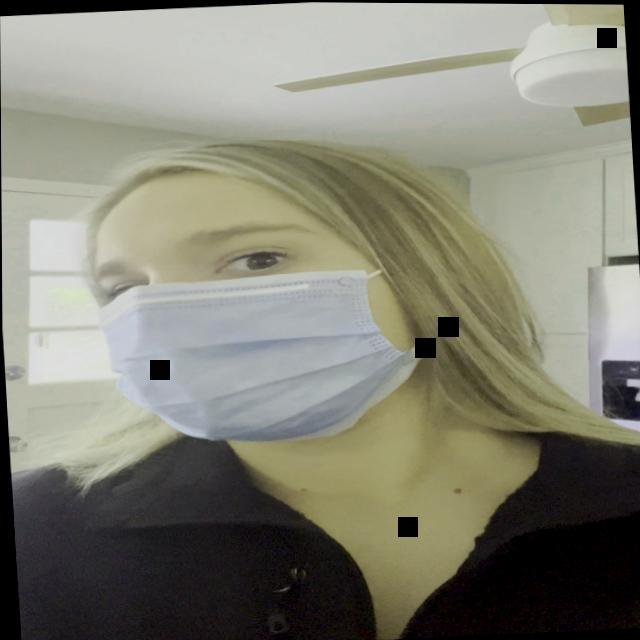Mask: (84, 153, 435, 452)
